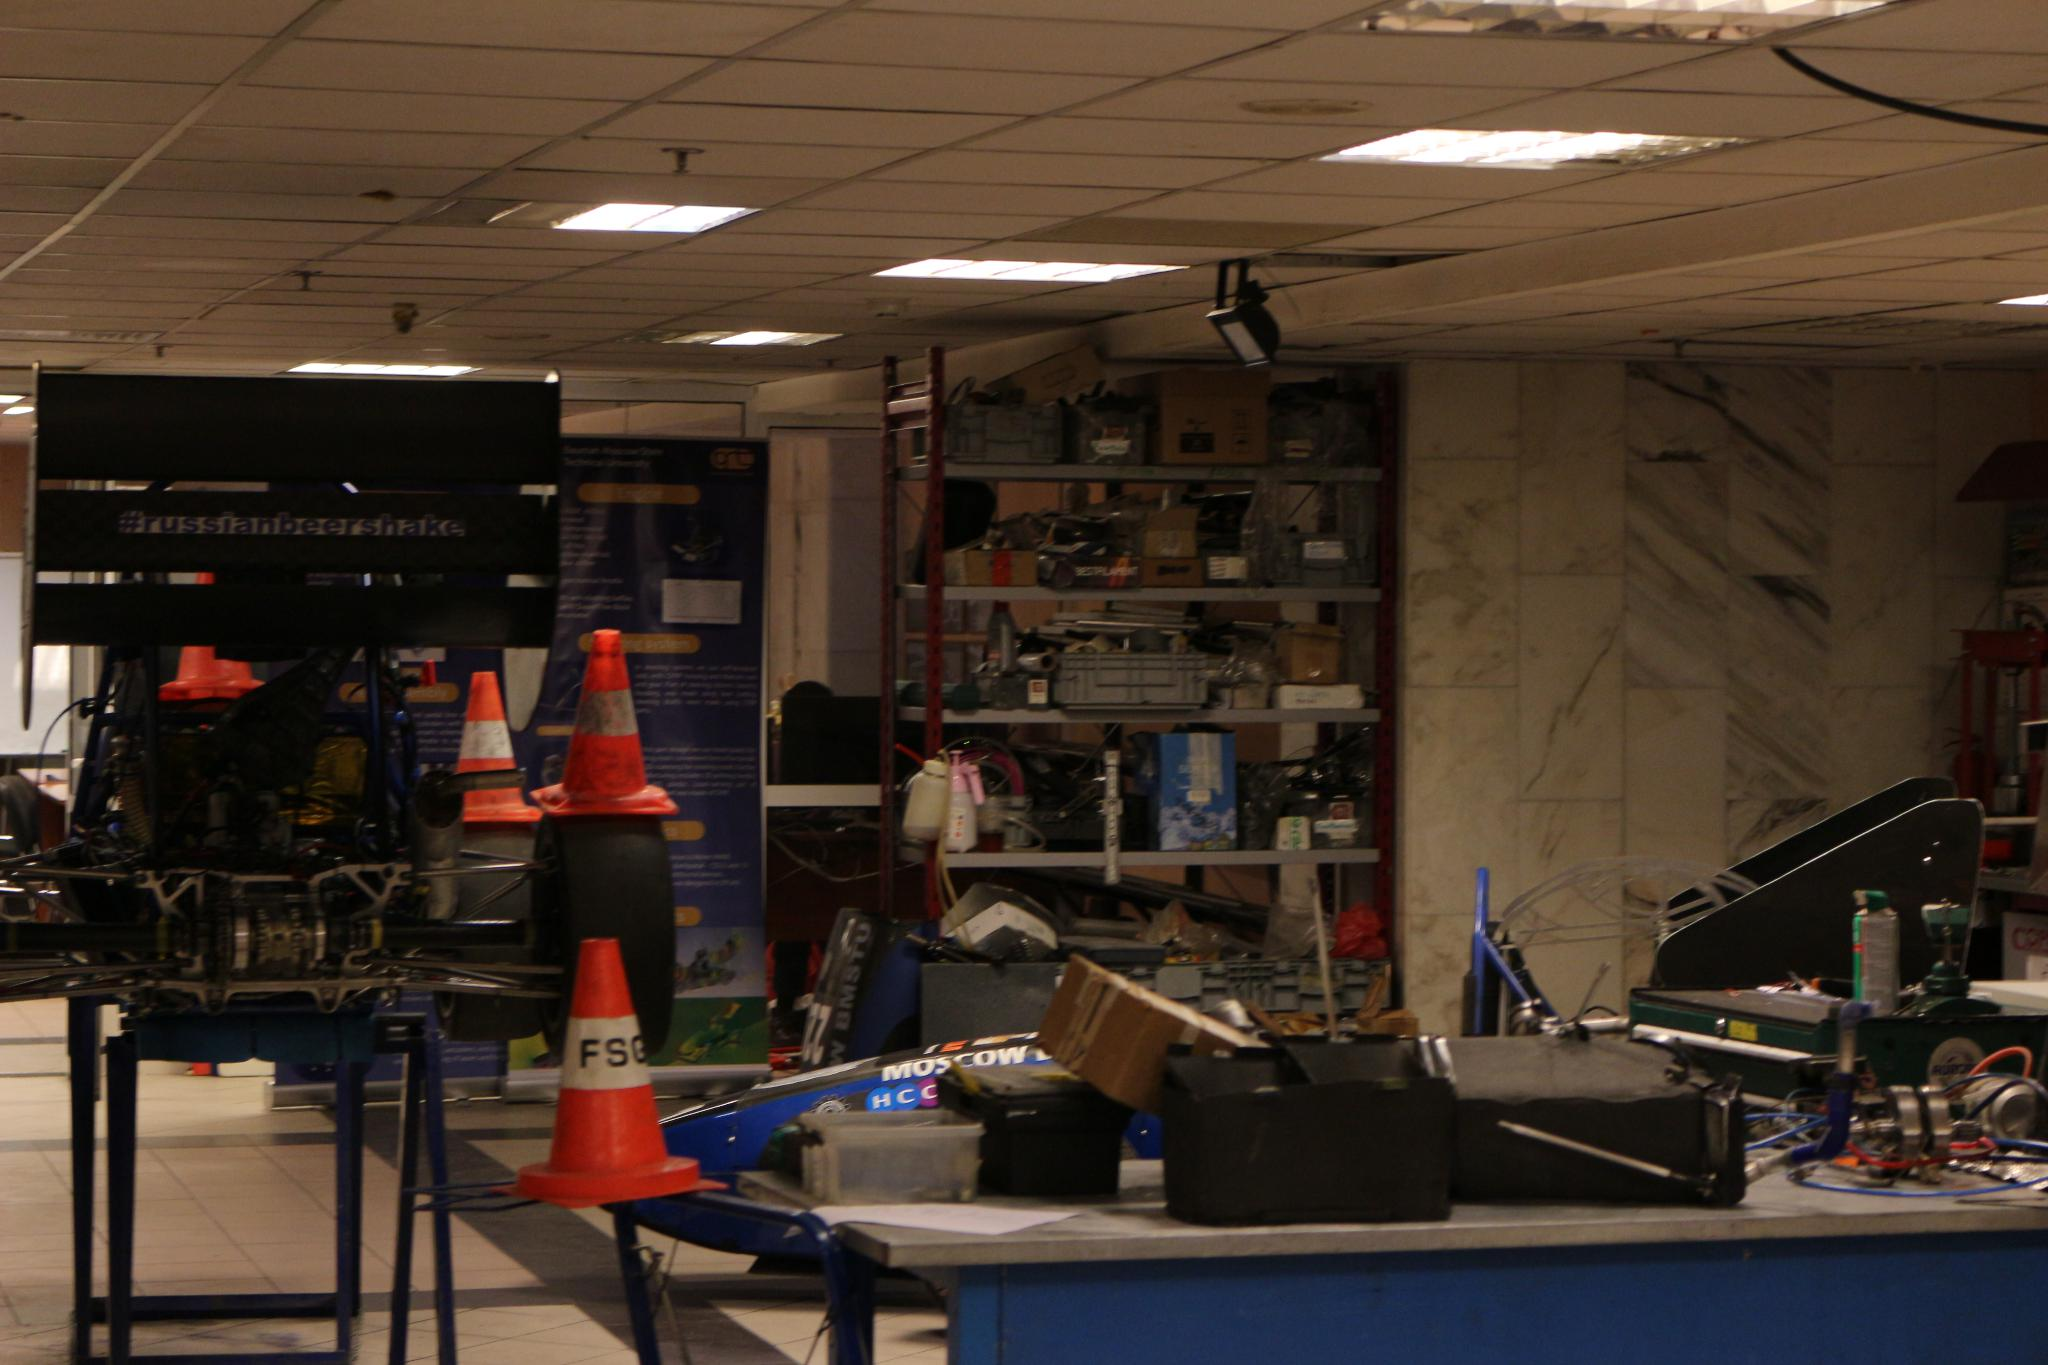Orange_Cone: (510, 932, 718, 1218), (556, 623, 678, 818), (450, 664, 544, 819)
